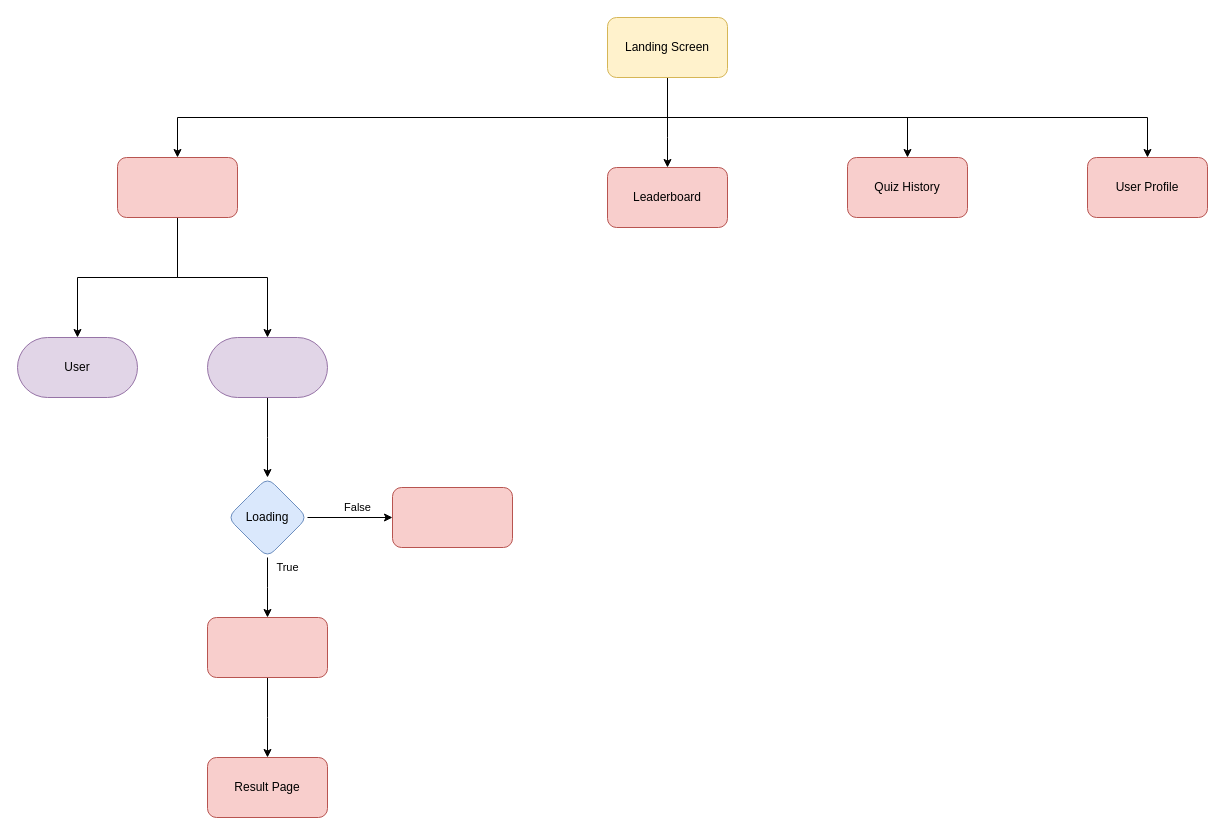
Image size: 1225x835. Some labels were removed from this diagram. The box of each missing label's shape, as (x1, y1, x2, y2) in pixels:
Categories: (206, 336, 328, 398)
Error Page: (392, 486, 512, 548)
Home: (116, 156, 238, 218)
Question Page: (206, 616, 328, 678)
